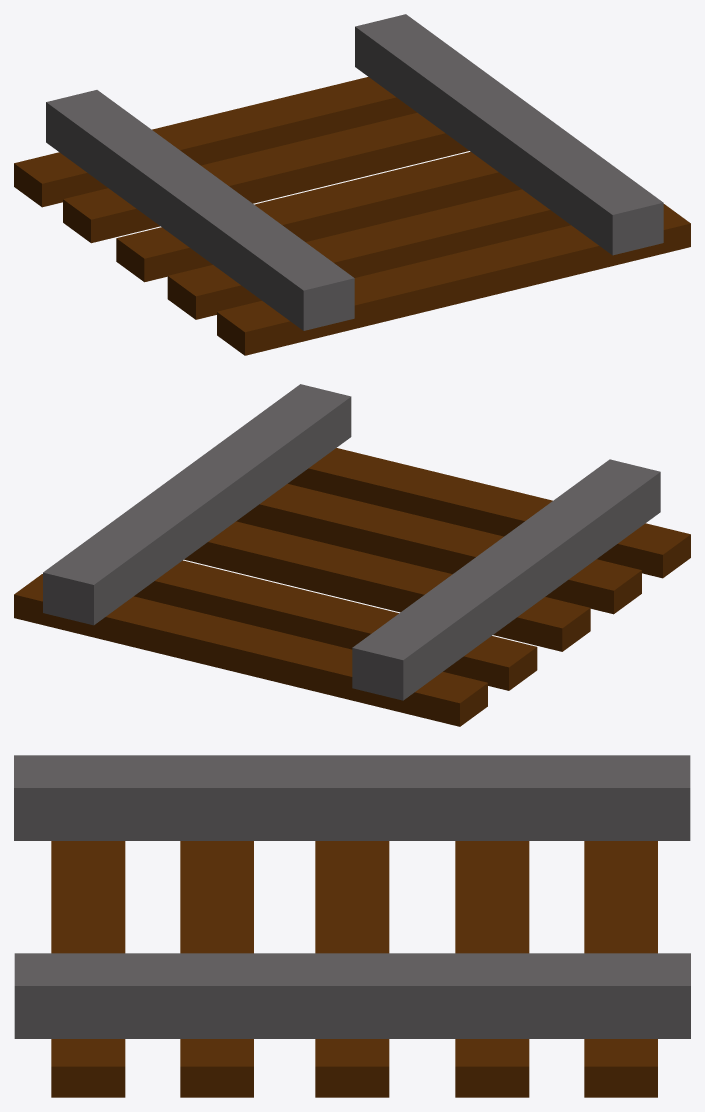
File: Tracks.fbx
The picture shows the model from 3 angles, top to bottom: view 1: azimuth 30°, elevation 25°; view 2: azimuth 150°, elevation 25°; view 3: azimuth 270°, elevation 25°; orthographic projection. The views are drawn at different scales.
Visible parts, largest first — view 1: Cube.001, Cube; view 2: Cube.001, Cube; view 3: Cube, Cube.001.
Boxes of the visible parts, x1=… form: Cube.001: x1=14, y1=77, x2=690, y2=355; Cube: x1=46, y1=14, x2=663, y2=330; Cube.001: x1=14, y1=448, x2=690, y2=726; Cube: x1=43, y1=384, x2=660, y2=700; Cube: x1=14, y1=755, x2=690, y2=1038; Cube.001: x1=51, y1=841, x2=657, y2=1097.
Size of the model in its own units: 200 by 27.77 by 200.
